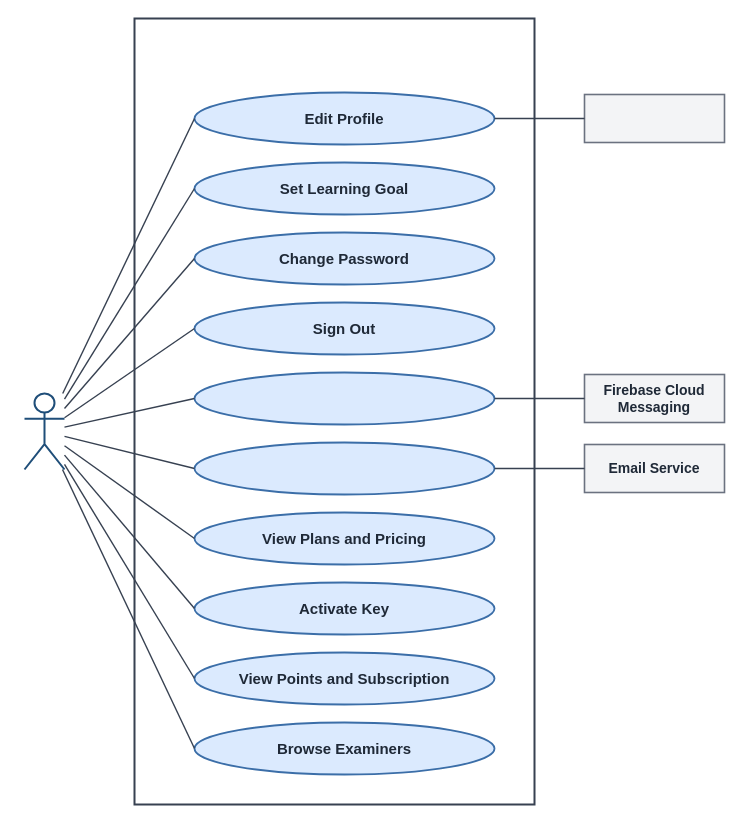
This 743x822 diagram has some shape labels left out. Each missing label, with the box of its shape:
IELTSPath: (133, 17, 535, 805)
Learner: (23, 392, 65, 470)
Manage Notification Preferences: (193, 441, 495, 495)
Supabase Storage: (583, 93, 725, 143)
View Notifications: (193, 371, 495, 425)
